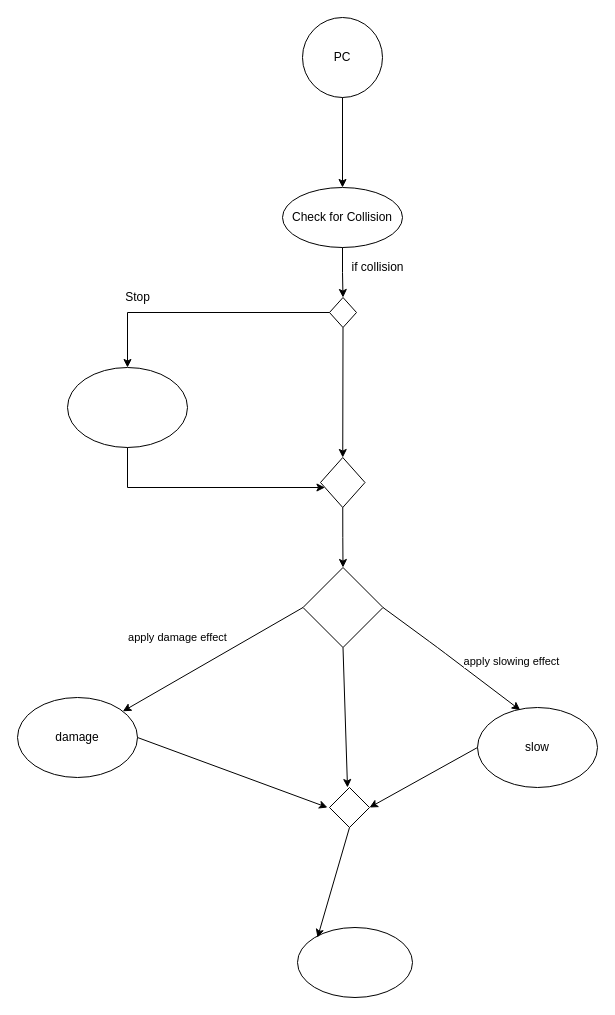
Image size: 615x1015. Some labels were removed from this diagram. Here are the shapes that lost their labels. From the top down, the centre of each, then its label:
the point at 127,407: Set Vector to 0
the point at 354,962: Continue Play
